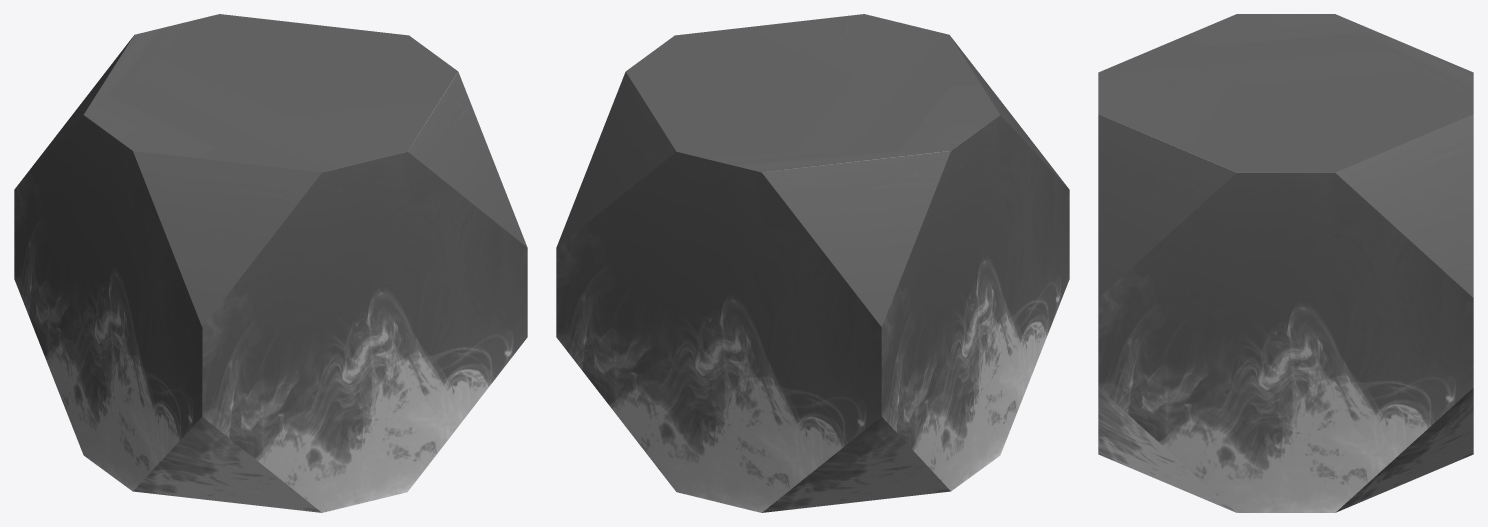
Rendered from Dungeon Salts.obj.
3 renders of one model, left to right at view 1: azimuth 30°, elevation 25°; view 2: azimuth 150°, elevation 25°; view 3: azimuth 270°, elevation 25°, orthographic.
Parts seen in each view (by area): view 1: Box002; view 2: Box002; view 3: Box002.
Part boxes in pixels (bbox=[...]): Box002: bbox=[14, 14, 527, 512]; Box002: bbox=[556, 14, 1069, 512]; Box002: bbox=[1098, 14, 1473, 512].
Bounding box in the file's own units: 50 × 50 × 50.
